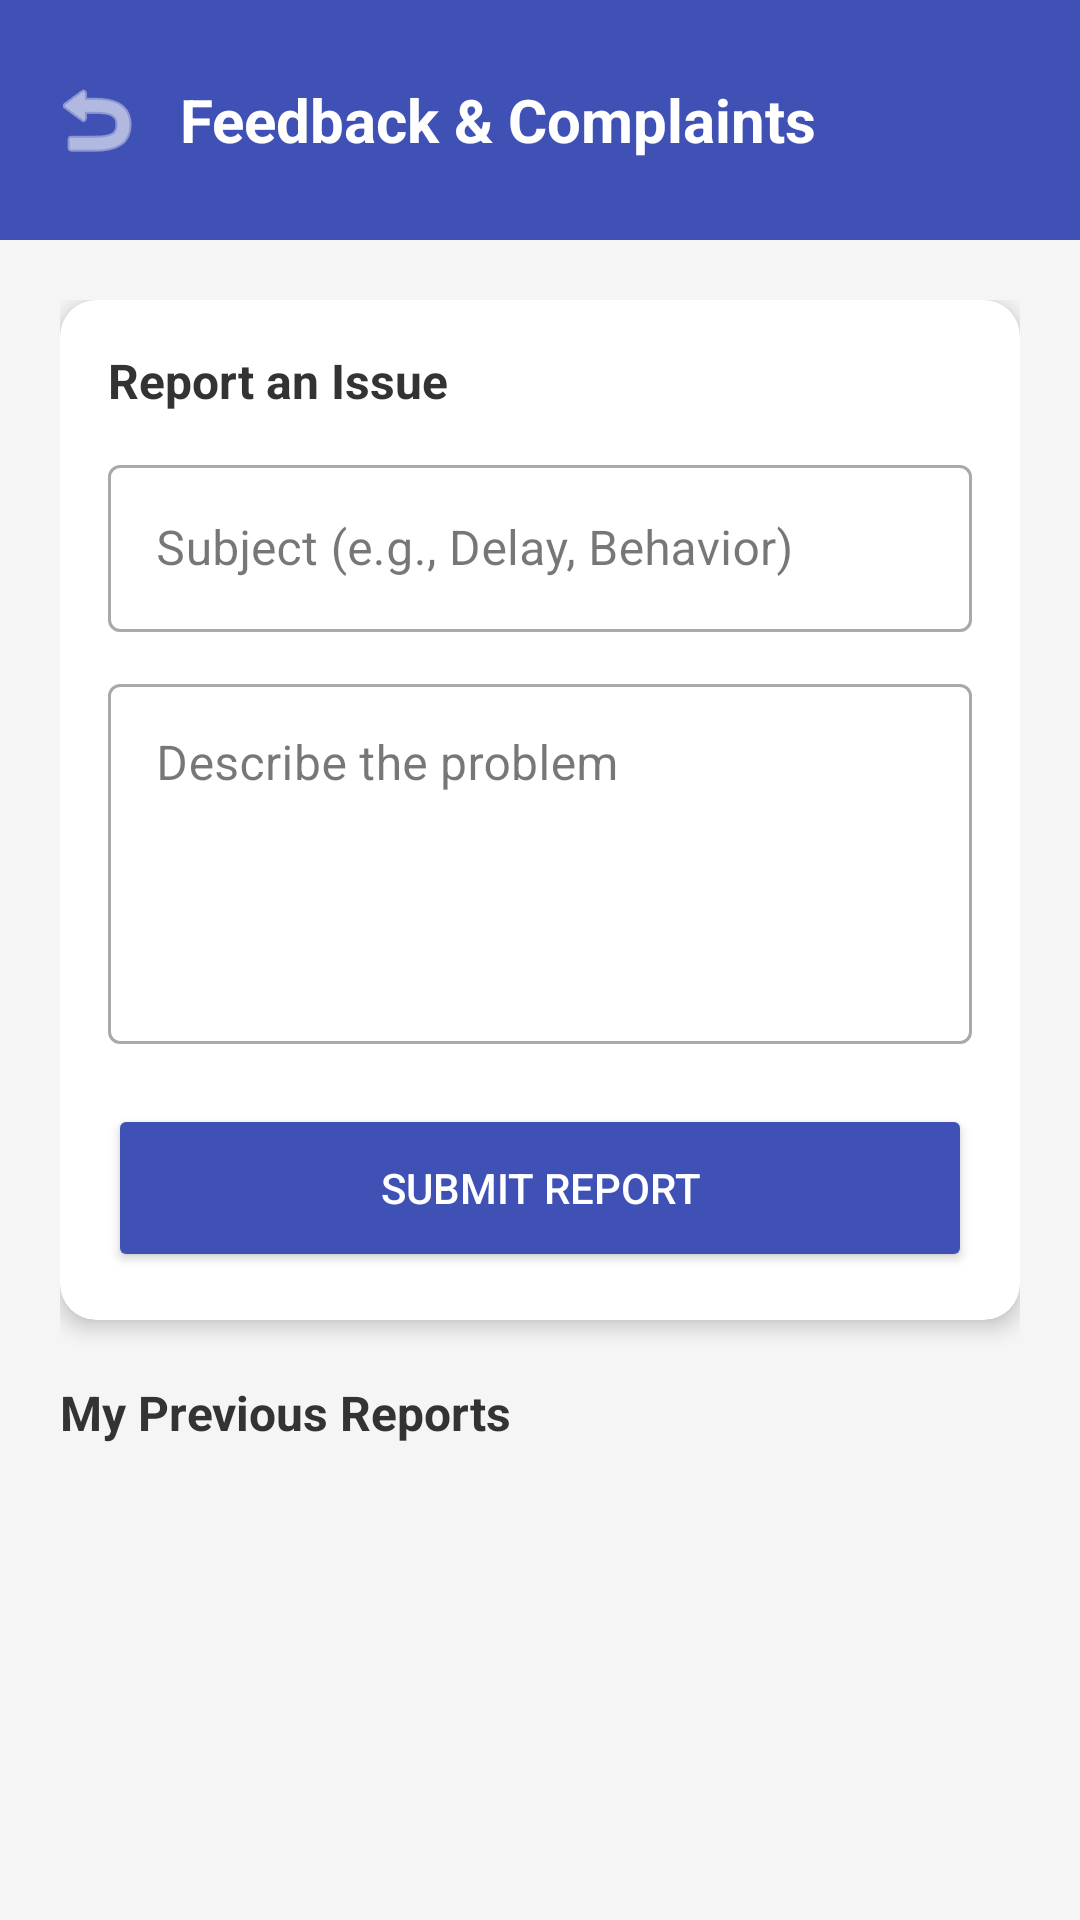

Icon bounding boxes for this 1080*1920 phone screenshot, format (x1, y1, x2, y2):
revert: (63, 89, 132, 152)
